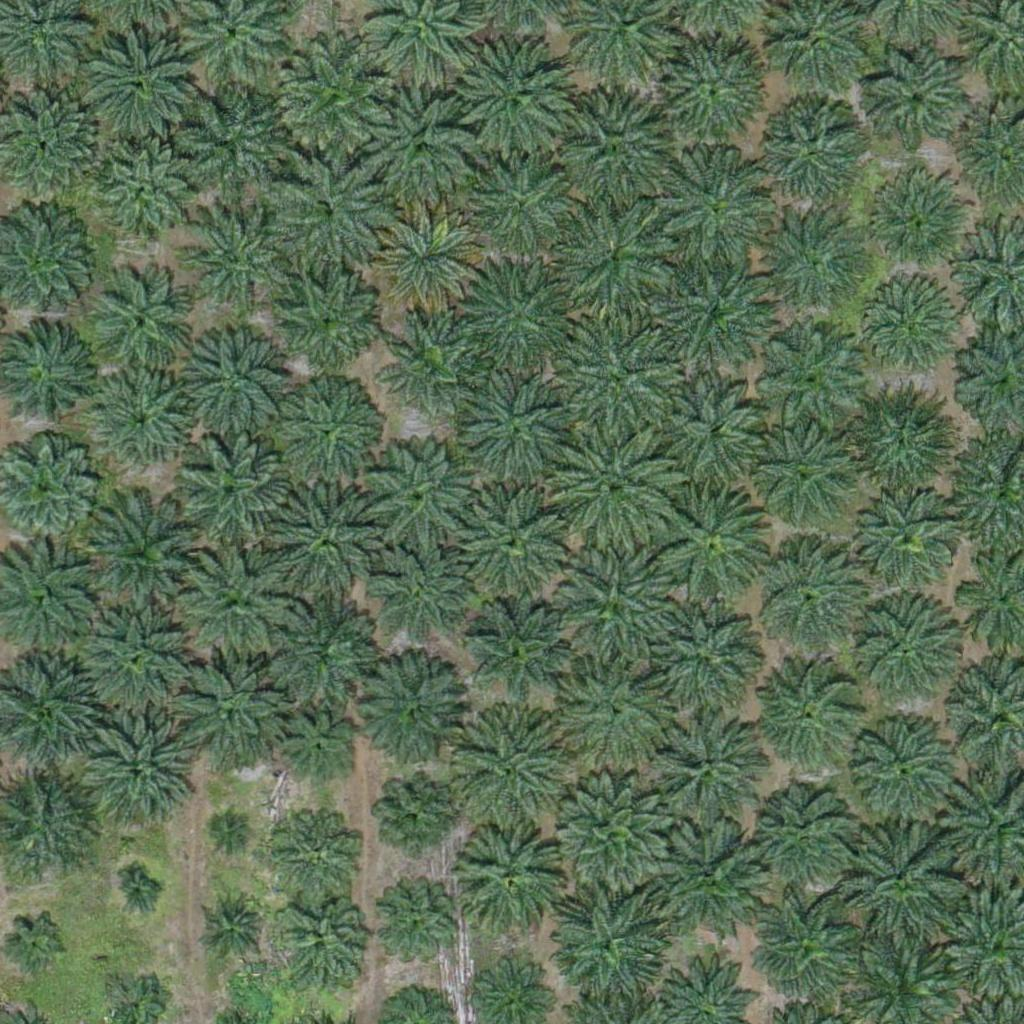Kelapa_Sawit: (84, 493, 209, 619), (551, 198, 676, 324), (557, 317, 682, 443), (551, 420, 676, 545), (79, 601, 192, 715), (662, 35, 775, 149), (654, 150, 767, 264), (851, 818, 964, 931), (750, 539, 863, 652), (749, 884, 862, 997), (659, 489, 772, 602), (649, 594, 762, 707), (646, 712, 759, 825), (449, 818, 562, 931), (352, 658, 465, 771), (270, 486, 383, 599), (256, 587, 369, 700), (77, 710, 190, 823), (745, 416, 858, 529), (659, 375, 772, 488), (661, 256, 774, 369), (554, 94, 667, 207), (455, 39, 568, 152), (172, 87, 285, 200), (276, 40, 389, 153), (370, 205, 483, 318), (367, 438, 480, 551), (272, 158, 385, 271), (268, 263, 381, 376), (170, 647, 282, 761), (845, 381, 957, 495), (751, 317, 863, 431), (852, 702, 964, 815), (848, 589, 960, 702), (655, 816, 767, 929), (558, 543, 670, 656), (556, 652, 668, 765), (554, 771, 666, 884), (550, 886, 662, 999), (452, 708, 564, 821), (181, 545, 293, 658), (467, 149, 579, 262), (457, 258, 569, 371), (457, 369, 569, 482), (456, 481, 568, 594), (84, 25, 196, 138), (363, 89, 475, 202), (180, 203, 292, 316), (176, 435, 288, 548), (763, 658, 863, 759), (754, 782, 854, 883), (466, 605, 566, 706), (864, 46, 964, 147), (96, 145, 196, 246), (278, 383, 378, 484), (185, 328, 285, 429), (93, 277, 193, 378), (857, 488, 957, 588), (759, 100, 859, 200), (864, 172, 964, 272), (860, 279, 960, 379), (765, 211, 865, 311), (94, 370, 194, 470), (270, 808, 358, 896), (278, 902, 366, 990), (388, 320, 475, 409), (375, 552, 462, 640), (378, 778, 453, 854), (380, 893, 455, 969), (276, 711, 351, 787), (7, 913, 69, 976), (207, 901, 257, 951), (215, 812, 253, 850), (120, 874, 157, 912)
